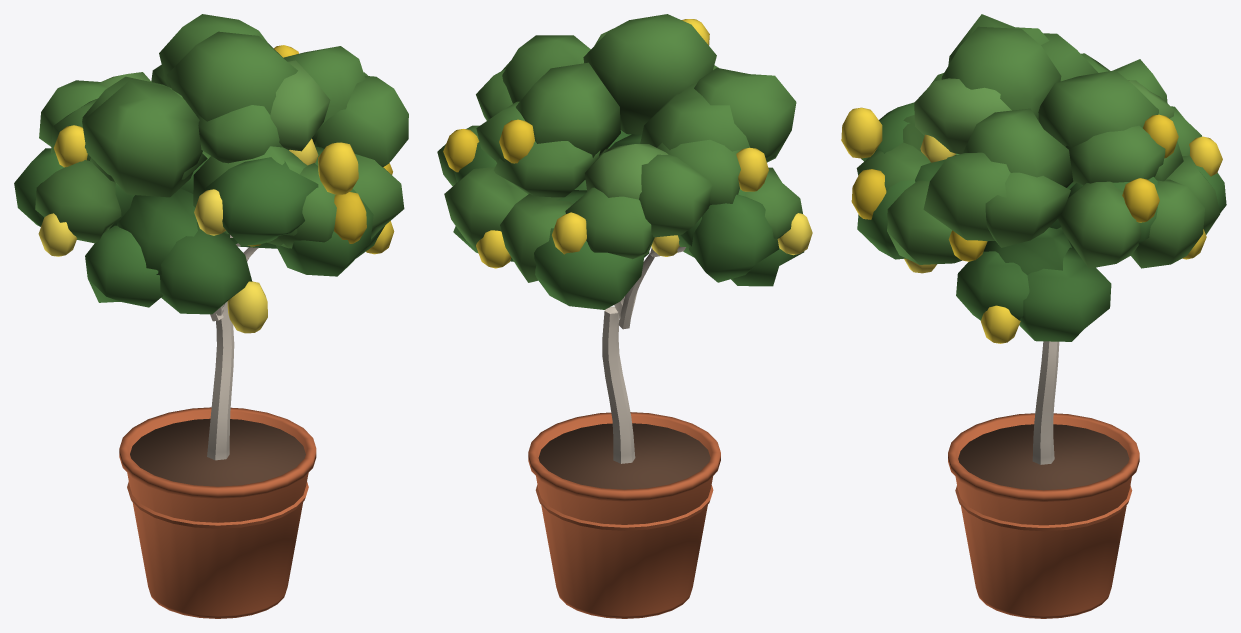
The model's file is lemonTree.glb.
The picture shows the model from 3 angles, left to right: view 1: azimuth 30°, elevation 25°; view 2: azimuth 150°, elevation 25°; view 3: azimuth 270°, elevation 25°; orthographic projection. The views are drawn at different scales.
Parts seen in each view (by area): view 1: lemonTree, lemon_fruit; view 2: lemonTree, lemon_fruit; view 3: lemonTree, lemon_fruit.
Boxes of the visible parts, x1,y1,x2,y2 form: lemonTree: [14, 14, 408, 618]; lemon_fruit: [38, 45, 394, 333]; lemonTree: [437, 14, 804, 618]; lemon_fruit: [443, 19, 812, 268]; lemonTree: [856, 14, 1226, 618]; lemon_fruit: [841, 107, 1222, 343].
Bounding box in the file's own units: 1.25 × 2 × 1.27.
